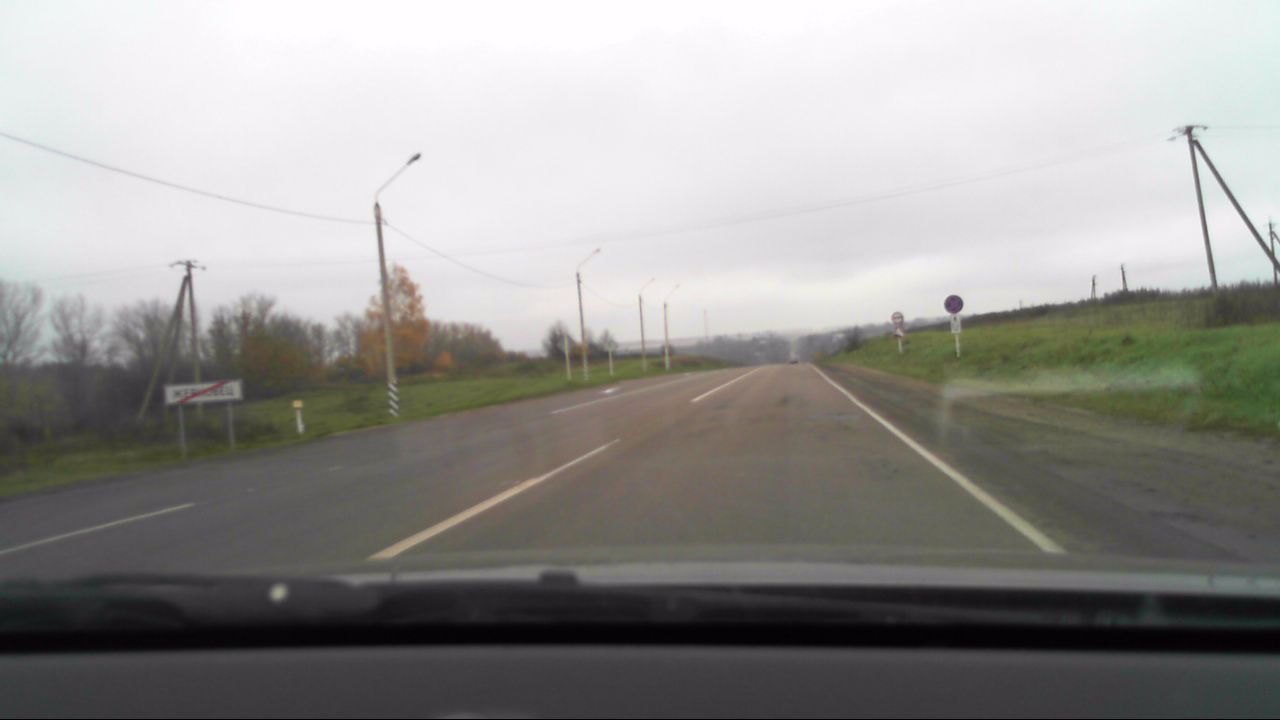No Parking: (941, 293, 965, 313)
